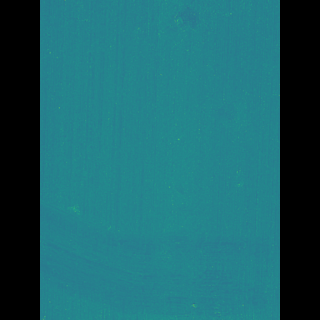Loch: (68, 193, 251, 320), (162, 0, 198, 38)
